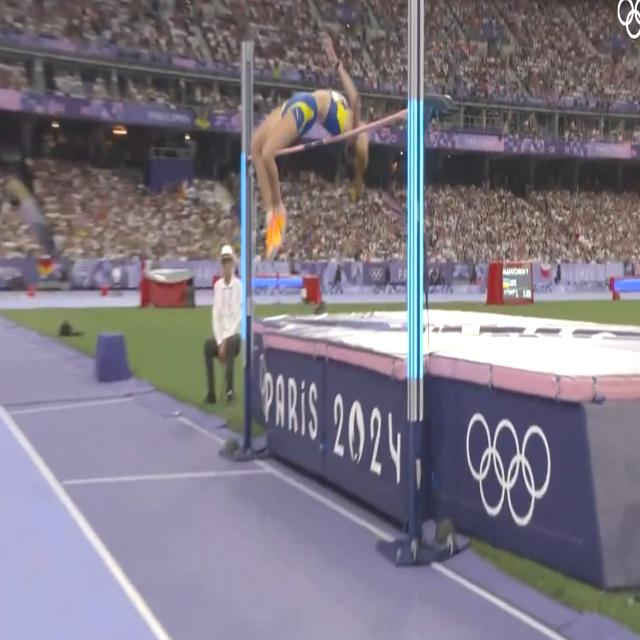jump: (249, 38, 369, 256)
